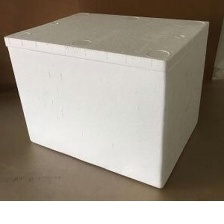foam_box: (0, 7, 213, 192)
